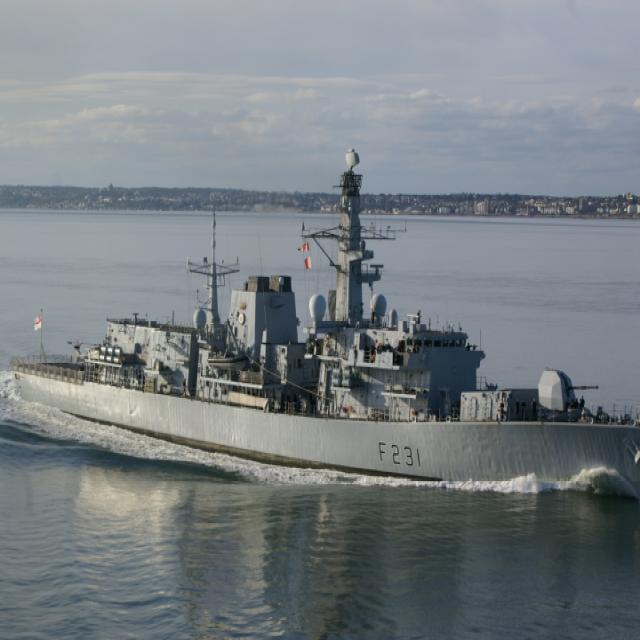Fragata: (1, 140, 640, 511)
